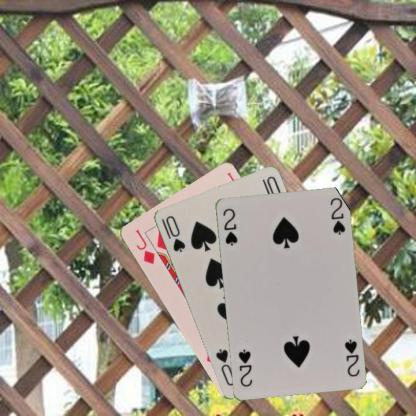10s: (158, 213, 187, 253)
2s: (220, 206, 239, 246), (342, 336, 360, 378)
Jd: (132, 226, 156, 266)
